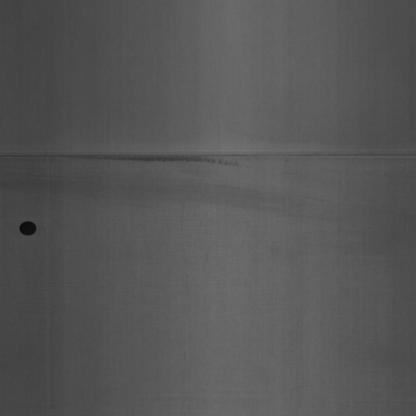punching_hole: (18, 216, 40, 240)
welding_line: (4, 142, 414, 172)
